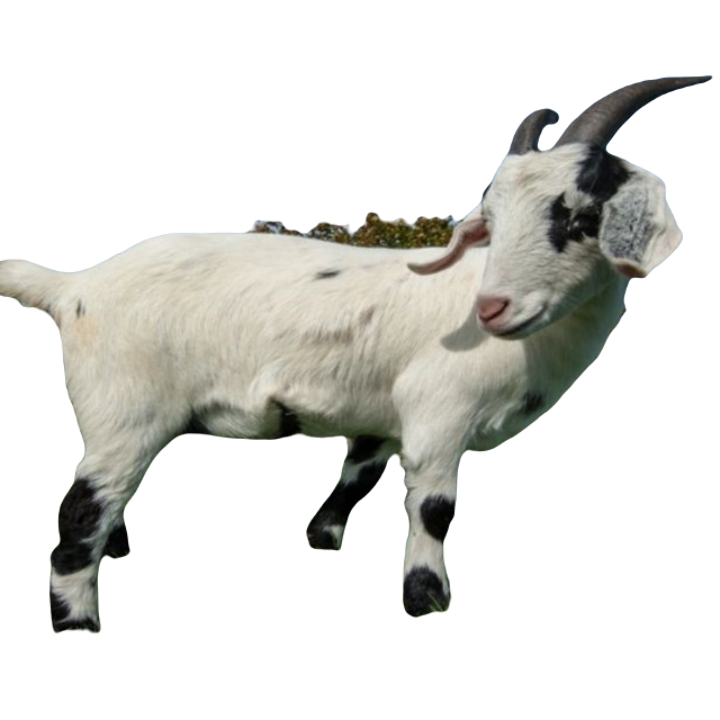Goat: (1, 70, 715, 633)
